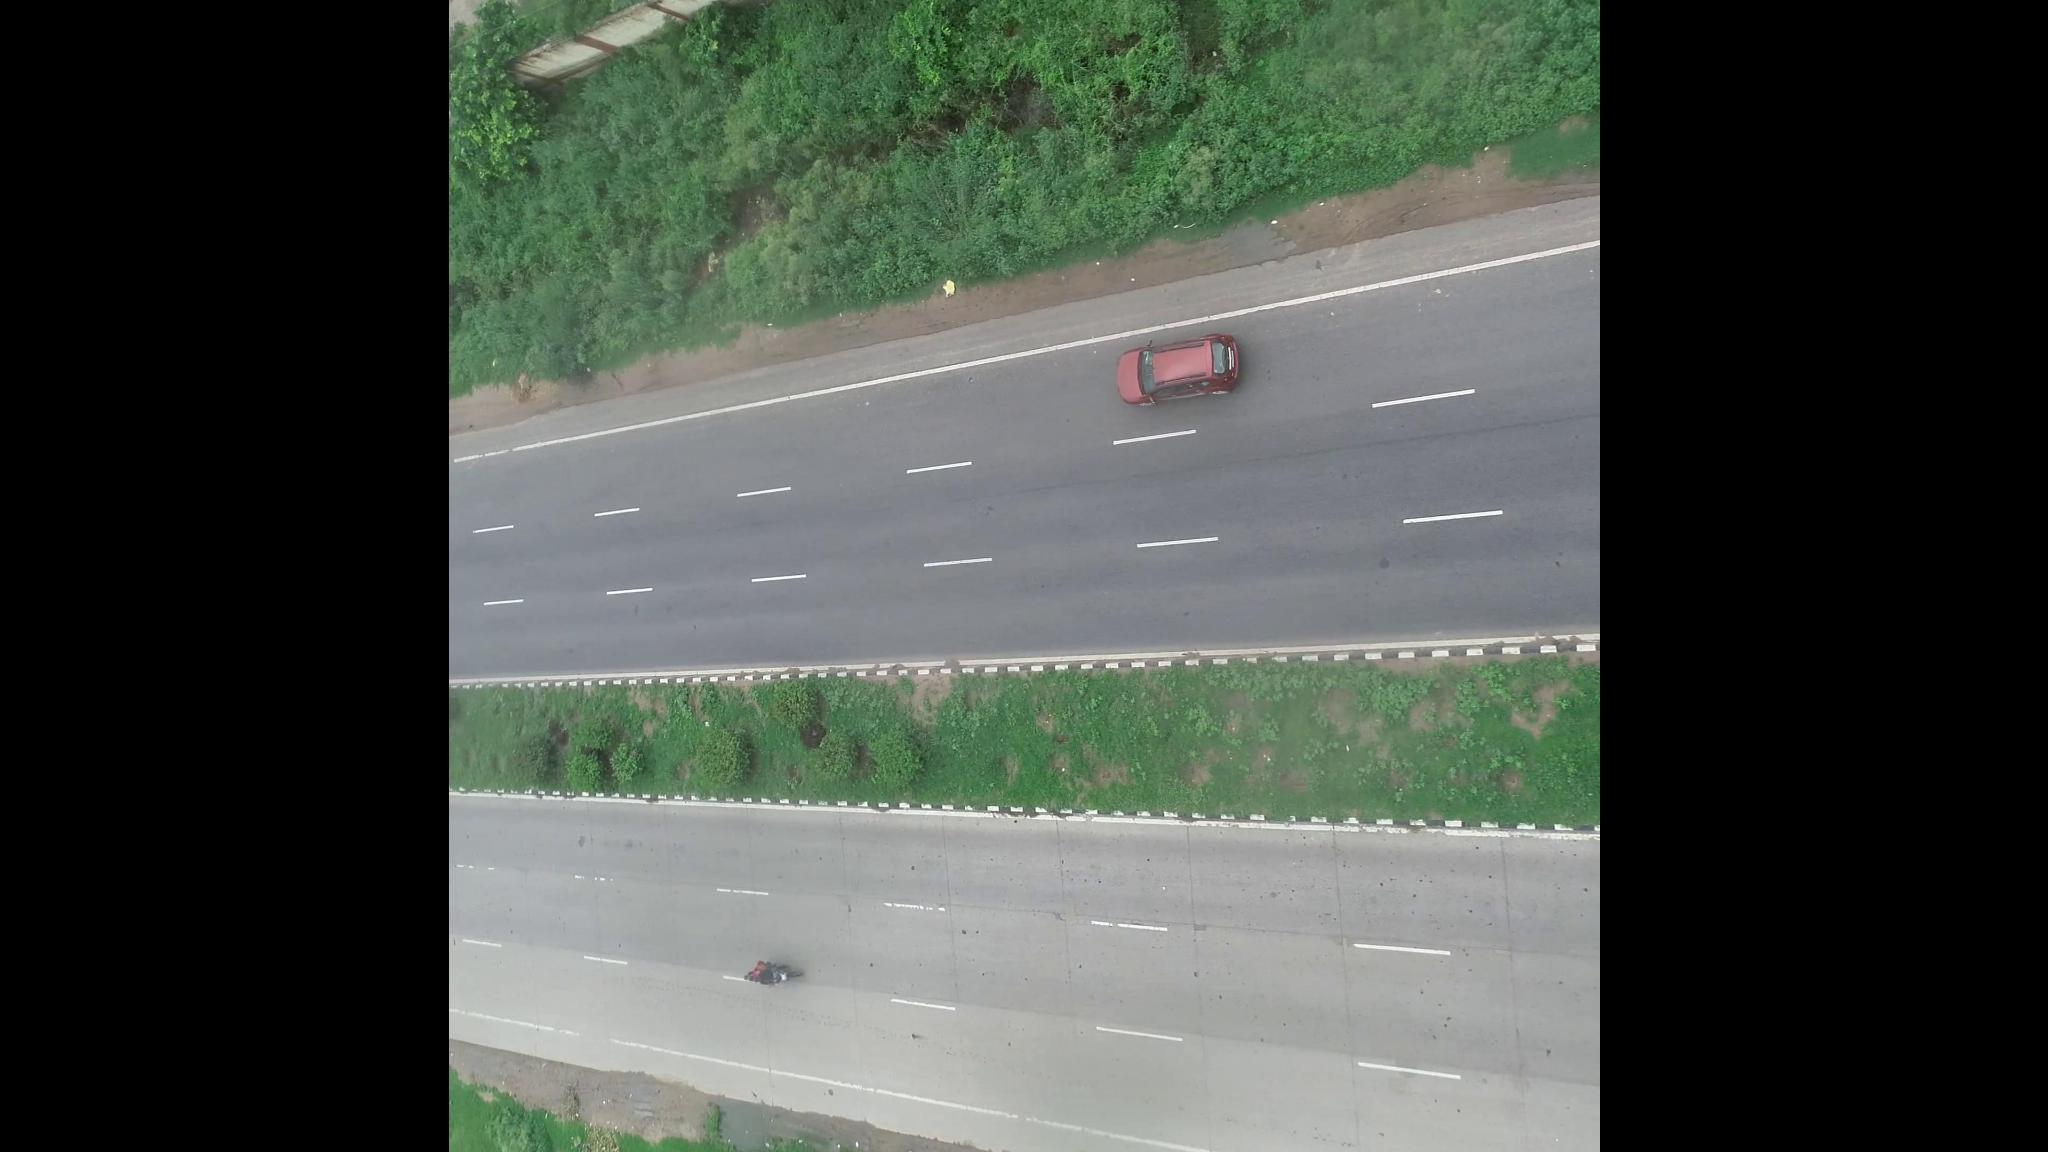Cracks: (1319, 407, 1591, 467), (1011, 447, 1310, 498)
